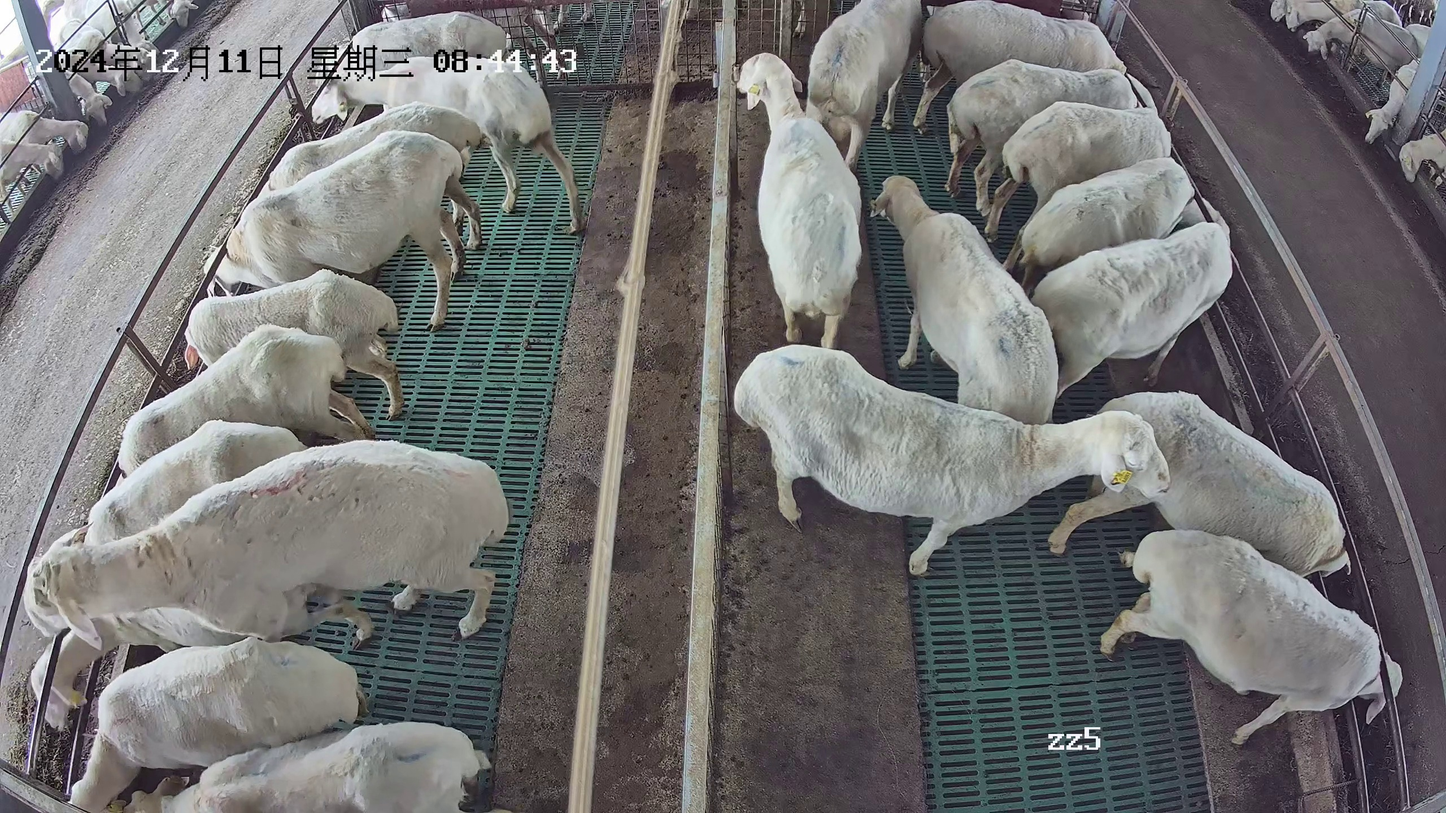Smounting: (23, 436, 506, 736)
mounted: (27, 583, 378, 732)
